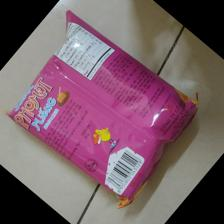Oishi_phomat: (5, 7, 200, 210)
